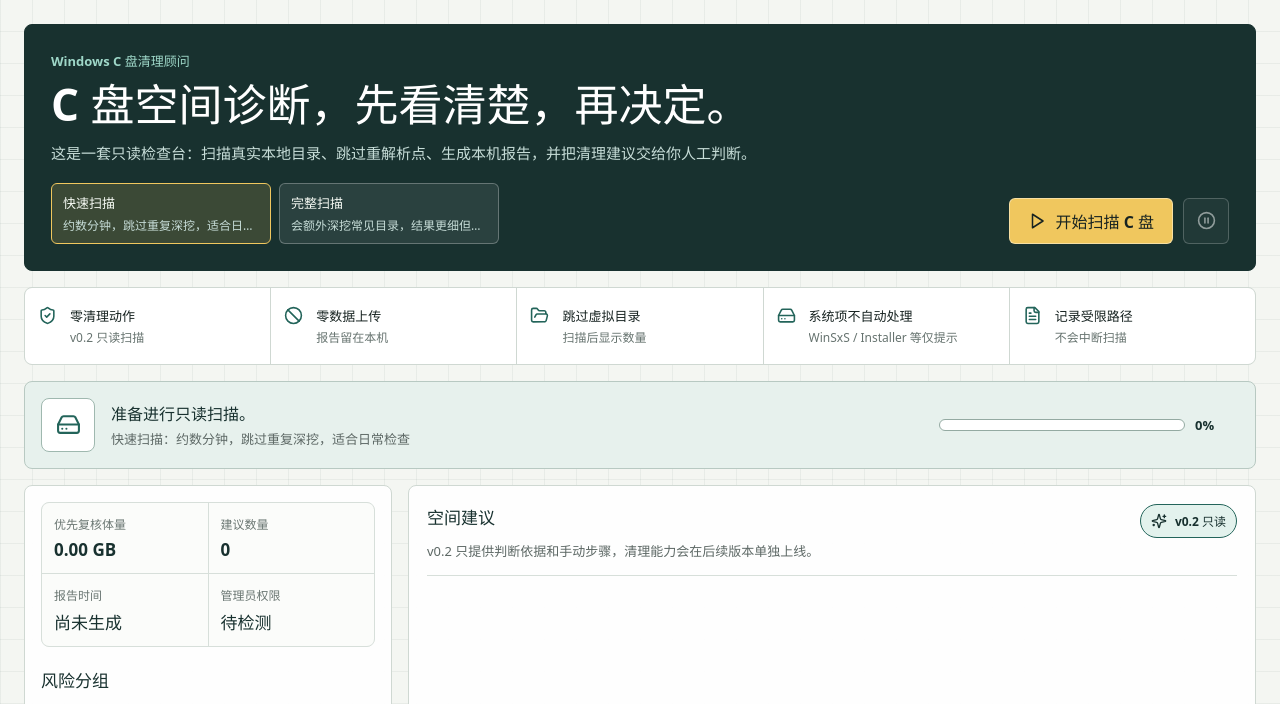
App › surfaces start failures without leaving the scan in a working state
The image size is (1280, 704).
Click the button "开始扫描 C 盘". click: (1091, 221)
box: [1010, 198, 1173, 244]
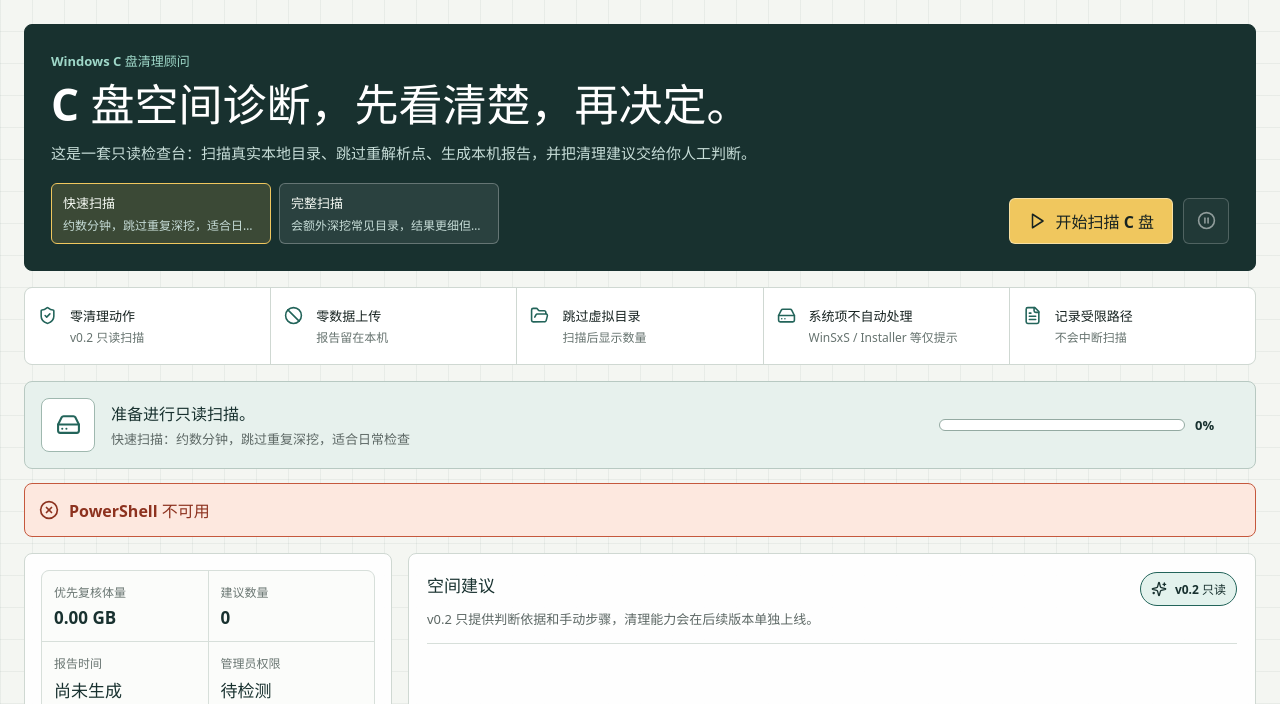
Expected: the text "准备进行只读扫描。" is shown, [111, 403, 255, 425]
Expected: the text "PowerShell 不可用" is shown, [69, 498, 210, 522]
